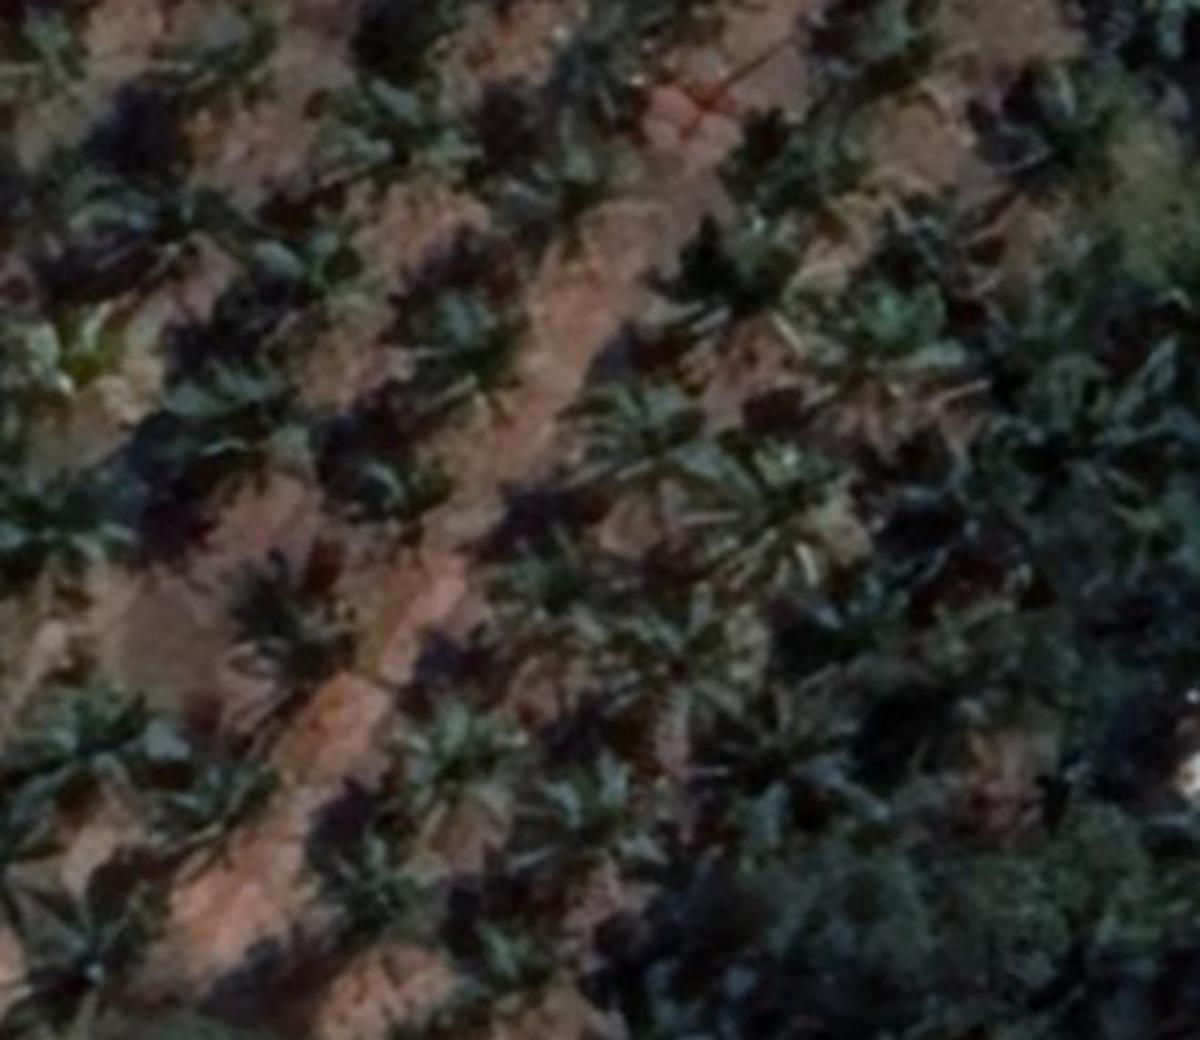coconut: (711, 435, 866, 604), (468, 99, 615, 273), (124, 708, 278, 863), (217, 573, 350, 739), (604, 584, 742, 742), (524, 764, 678, 904), (480, 521, 612, 659), (324, 60, 463, 190), (377, 684, 513, 813), (176, 350, 303, 485), (328, 452, 463, 579), (402, 270, 524, 405), (590, 375, 697, 499), (242, 222, 361, 333)
